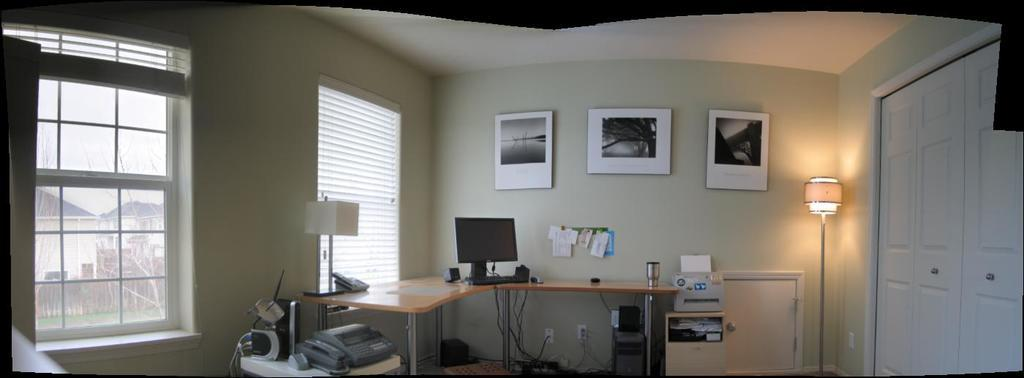Computer-monitor: (453, 215, 519, 284)
